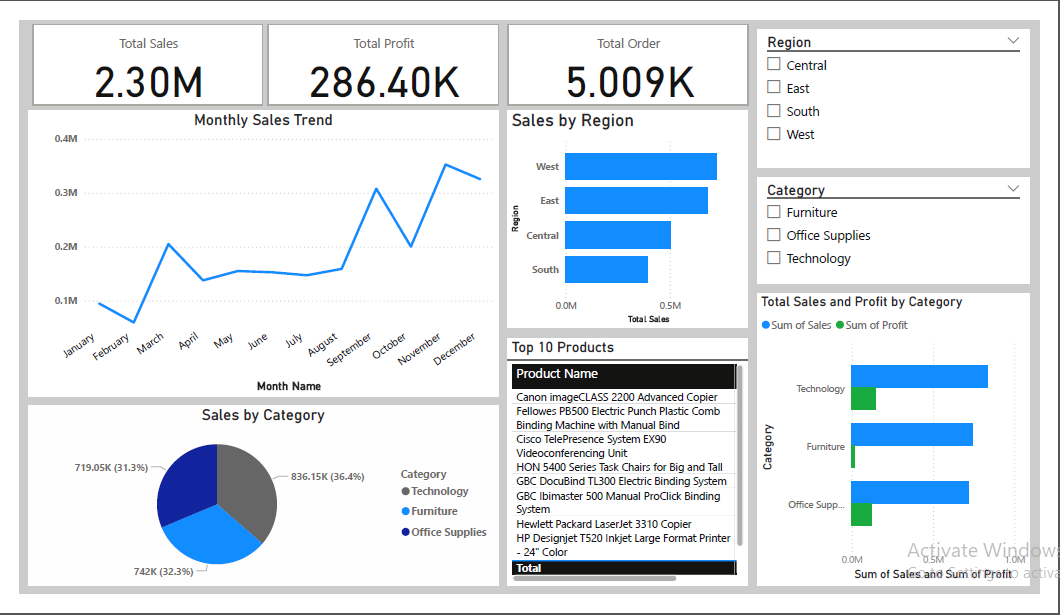

Layout of this report page (visuals, bound fields, positions):
{"tool":"powerbi","page":{"name":"Page 1","canvas":[1280,720],"ordinal":0},"visuals":[{"type":"cardVisual","title":"Total Sales","fields":{"Data":["Sum(cleaned_superstore.Sales)"]},"box":[11.8,0,299,112.5],"z":0},{"type":"cardVisual","fields":{"Data":["Sum(cleaned_superstore.Profit)"]},"box":[307.4,0,300.7,112.5],"z":1000},{"type":"cardVisual","fields":{"Data":["Count(cleaned_superstore.Order ID)"]},"box":[608.1,0,312.4,112.5],"z":2000},{"type":"lineChart","title":"Monthly Sales Trend","fields":{"Category":["cleaned_superstore.Month Name"],"Y":["Sum(cleaned_superstore.Sales)"]},"box":[11.8,112.5,589.6,359.5],"z":3000},{"type":"pieChart","title":"Sales by Category","fields":{"Category":["cleaned_superstore.Category"],"Y":["Sum(cleaned_superstore.Sales)"]},"box":[11.8,483.8,589.6,225.1],"z":4000},{"type":"clusteredBarChart","title":"Sales by Region","fields":{"Category":["cleaned_superstore.Region"],"Y":["Sum(cleaned_superstore.Sales)"]},"box":[613.1,112.5,300.7,273.8],"z":5000},{"type":"tableEx","title":"Top 10 Products","fields":{"Values":["cleaned_superstore.Product Name","Sum(cleaned_superstore.Sales)"]},"box":[613.1,399.8,300.7,309.1],"z":6000},{"type":"slicer","fields":{"Values":["cleaned_superstore.Region"]},"box":[925.6,11.8,342.7,173],"z":7000},{"type":"slicer","fields":{"Values":["cleaned_superstore.Category"]},"box":[925.6,196.5,342.7,134.4],"z":8000},{"type":"clusteredBarChart","title":"Total Sales and Profit by Category","fields":{"Category":["cleaned_superstore.Category"],"Y":["Sum(cleaned_superstore.Sales)","Sum(cleaned_superstore.Profit)"]},"box":[925.6,342.7,342.7,366.2],"z":9000}]}

Visuals, with their boxes on the page's 1280x720 design canvas (x1, y1, x2, y2). These are canvas units, not pixel positions in the 1060x615 screenshot, which may show the page scaled, cropped or inside an application window:
"Total Sales" cardVisual: [left=12, top=0, right=311, bottom=112]
cardVisual - Sum(cleaned_superstore.Profit): [left=307, top=0, right=608, bottom=112]
cardVisual - Count(cleaned_superstore.Order ID): [left=608, top=0, right=920, bottom=112]
"Monthly Sales Trend" lineChart: [left=12, top=112, right=601, bottom=472]
"Sales by Category" pieChart: [left=12, top=484, right=601, bottom=709]
"Sales by Region" clusteredBarChart: [left=613, top=112, right=914, bottom=386]
"Top 10 Products" tableEx: [left=613, top=400, right=914, bottom=709]
slicer - cleaned_superstore.Region: [left=926, top=12, right=1268, bottom=185]
slicer - cleaned_superstore.Category: [left=926, top=196, right=1268, bottom=331]
"Total Sales and Profit by Category" clusteredBarChart: [left=926, top=343, right=1268, bottom=709]
